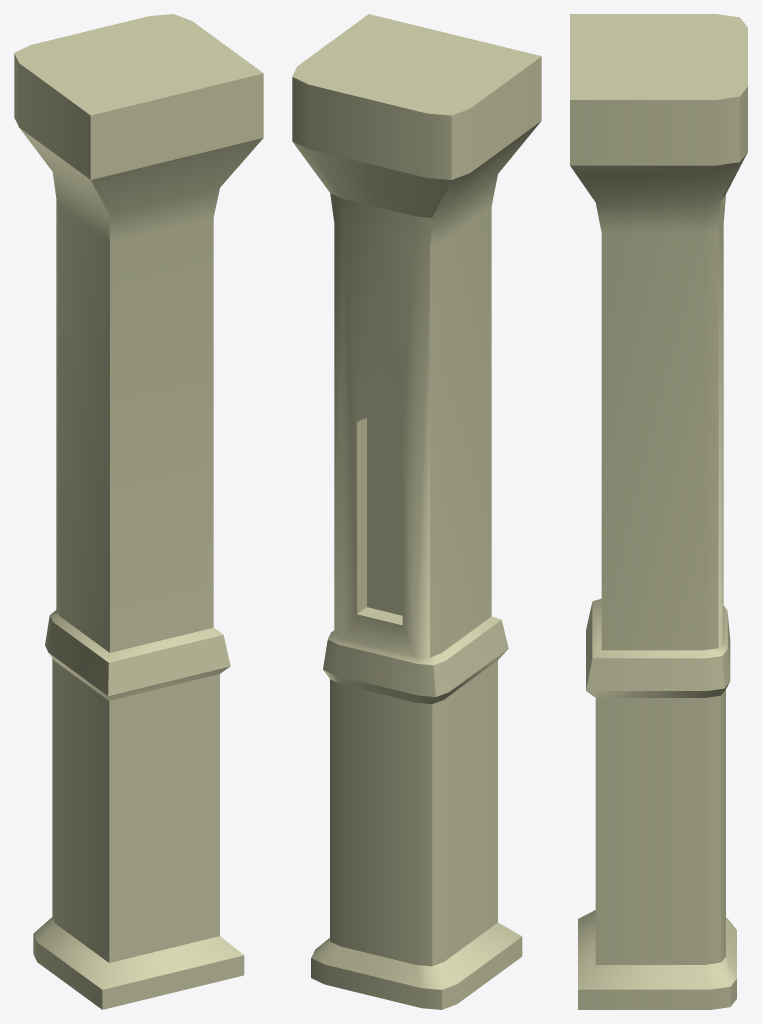
The model's file is Columna.fbx.
3 renders of one model, left to right at view 1: azimuth 30°, elevation 25°; view 2: azimuth 150°, elevation 25°; view 3: azimuth 270°, elevation 25°, orthographic.
Parts seen in each view (by area): view 1: Columna; view 2: Columna; view 3: Columna.
Part boxes in pixels (box(x1,y1,x2,y2)): Columna: box(14, 14, 263, 1009); Columna: box(292, 14, 541, 1009); Columna: box(570, 14, 747, 1009).
Size of the model in its own units: 30.73 by 153 by 26.88.
